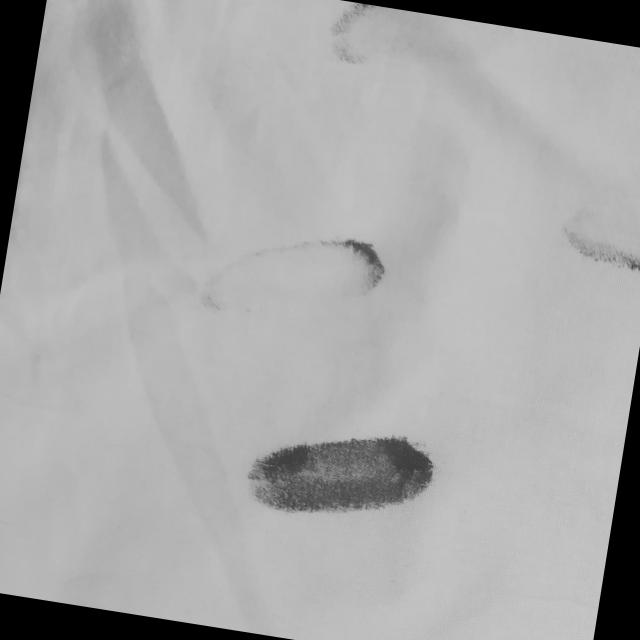Stain: (238, 410, 442, 534), (193, 214, 390, 338), (553, 221, 640, 274), (324, 0, 383, 68)
